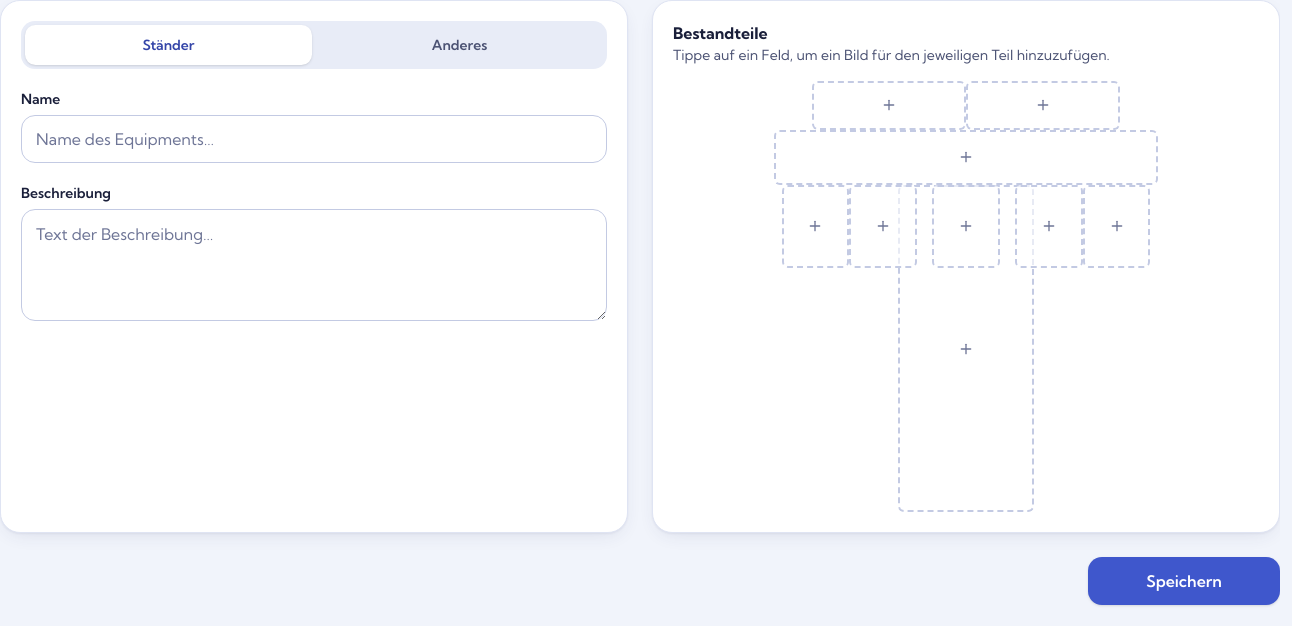
it: EquipmentForm (create) › requires a name
The image size is (1292, 626).
Step 1. Click the button "Speichern" → (1184, 581), box [1088,557,1280,605]
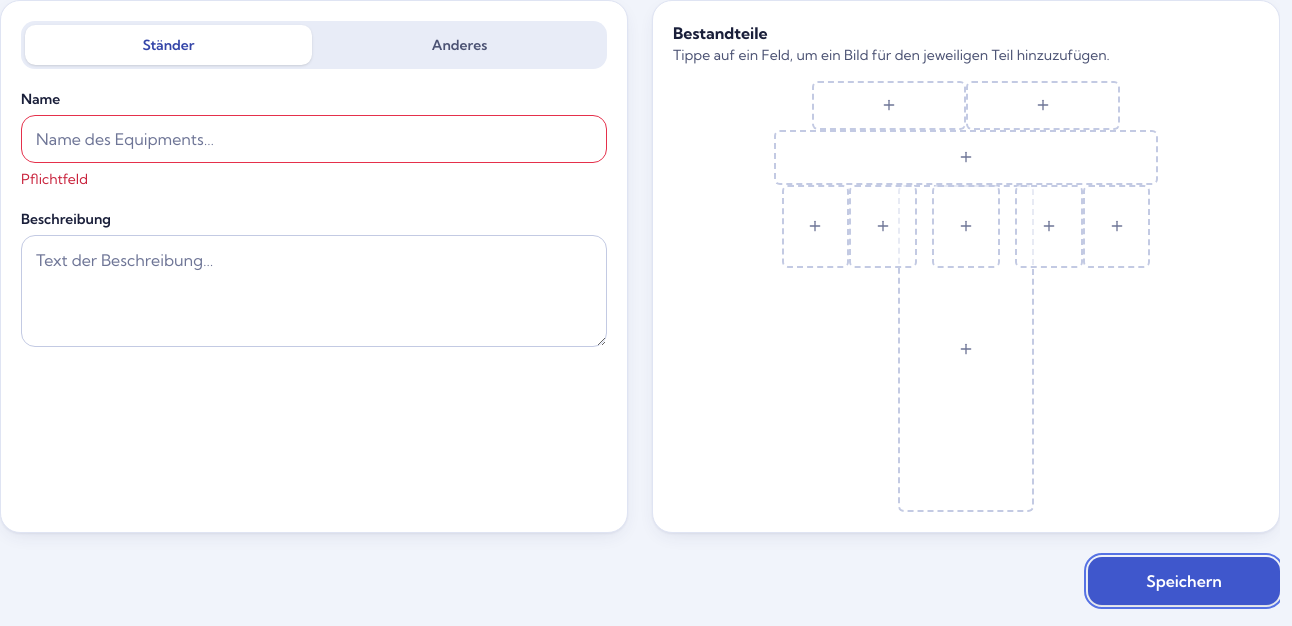
Now the text "Pflichtfeld" is shown, box [21,170,88,188]
